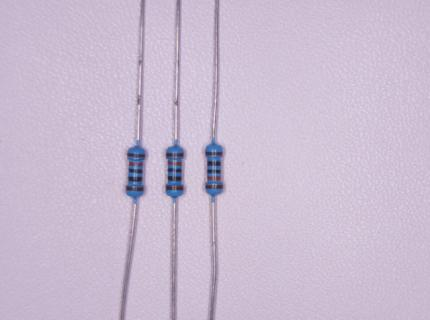Black band: (207, 168, 221, 174), (128, 176, 142, 182), (168, 176, 182, 181), (207, 161, 221, 166), (128, 168, 142, 173), (168, 168, 181, 173)
Brown band: (205, 184, 223, 190), (127, 153, 145, 158), (166, 153, 184, 158), (205, 151, 222, 156), (125, 187, 144, 191), (165, 186, 183, 190)
Orange band: (129, 162, 142, 167), (167, 161, 182, 165), (207, 176, 221, 180)
